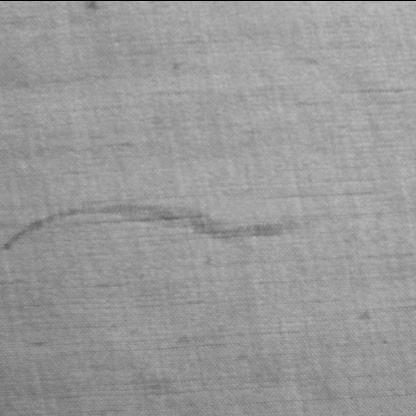oil spot: (1, 198, 301, 252)
